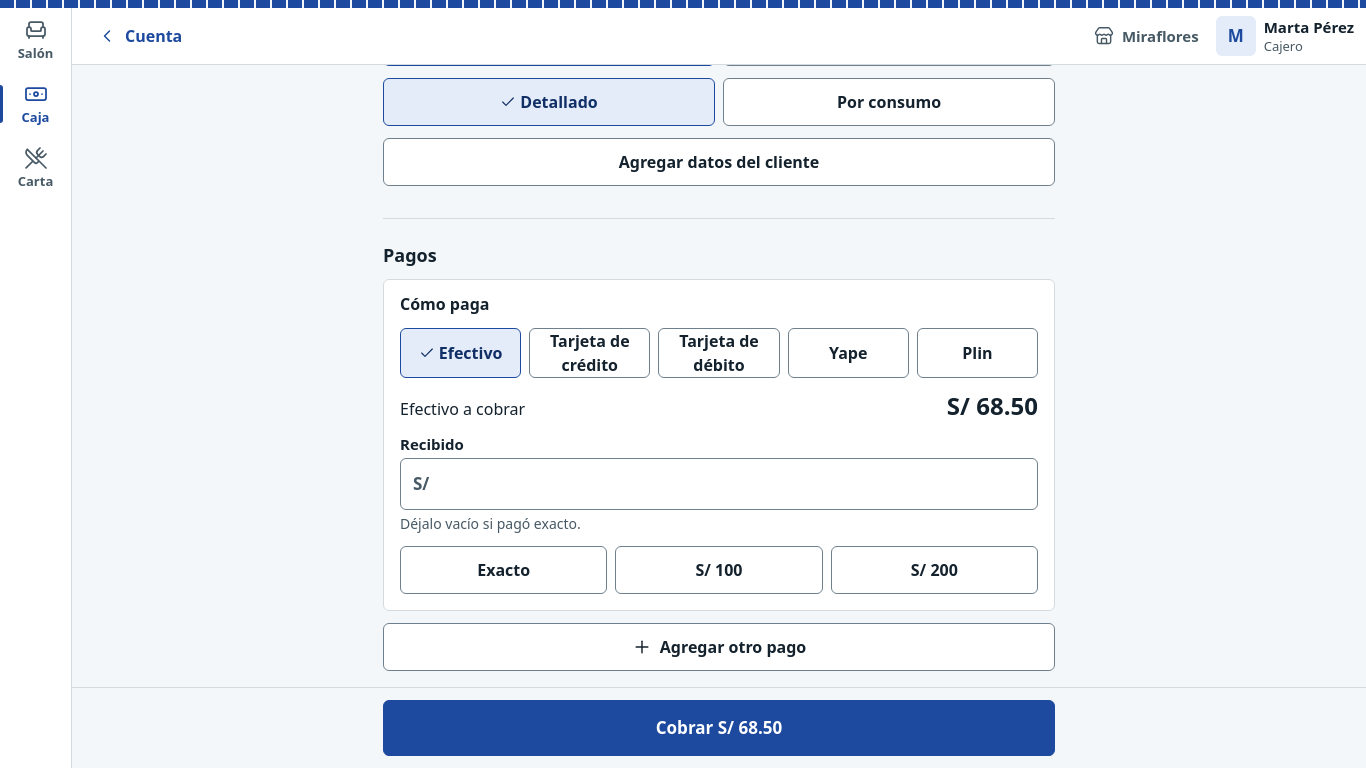
El cobro de una cuenta (criterios 47 a 52 y 111) › muestra el total del dominio y cobra todo en efectivo: cuerpo exacto, Idempotency-Key igual al id y resultado
(page scrolled)
Check: the button named "Cobrar S/ 68.50" is shown, box [383,700,1055,756]
Check: the text "S/ 68.50" is shown, box [947,390,1038,422]
Click the button "S/ 100" at (719, 570), box [615,546,823,594]
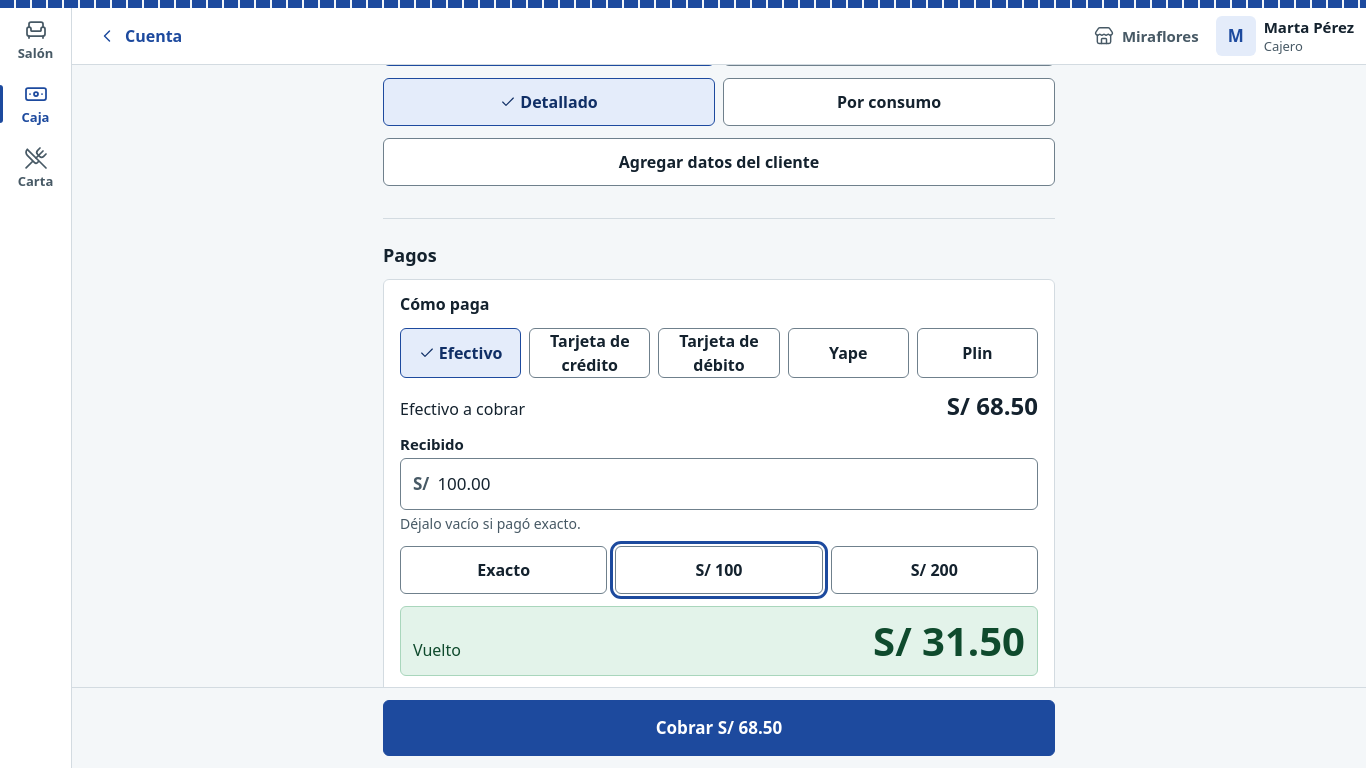
Click the button named "Cobrar S/ 68.50" at (719, 728), box [383,700,1055,756]
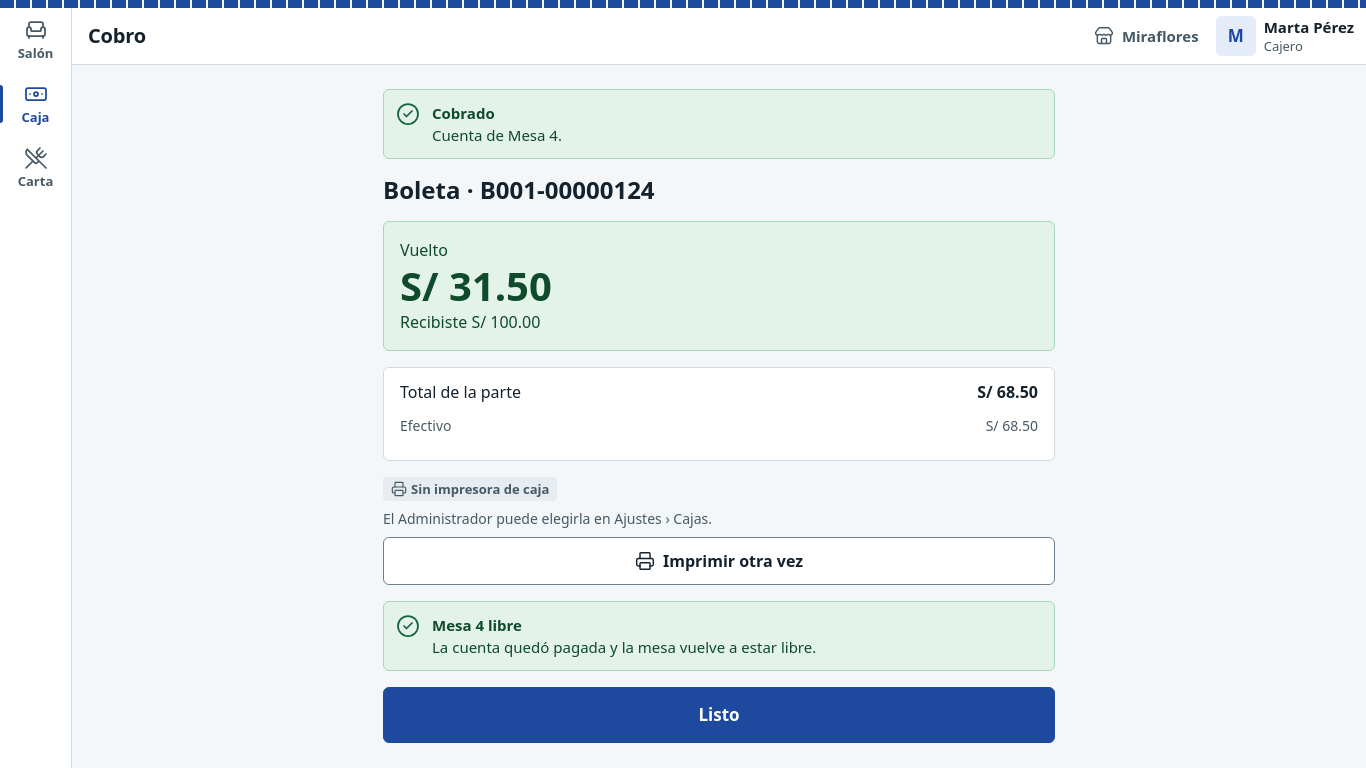
Check: the text "S/ 31.50" is shown, box [400,258,552,313]
Check: the text "Boleta · B001-00000124" is shown, box [383,173,655,206]
Check: the text "Sin impresora de caja" is shown, box [383,477,557,501]
